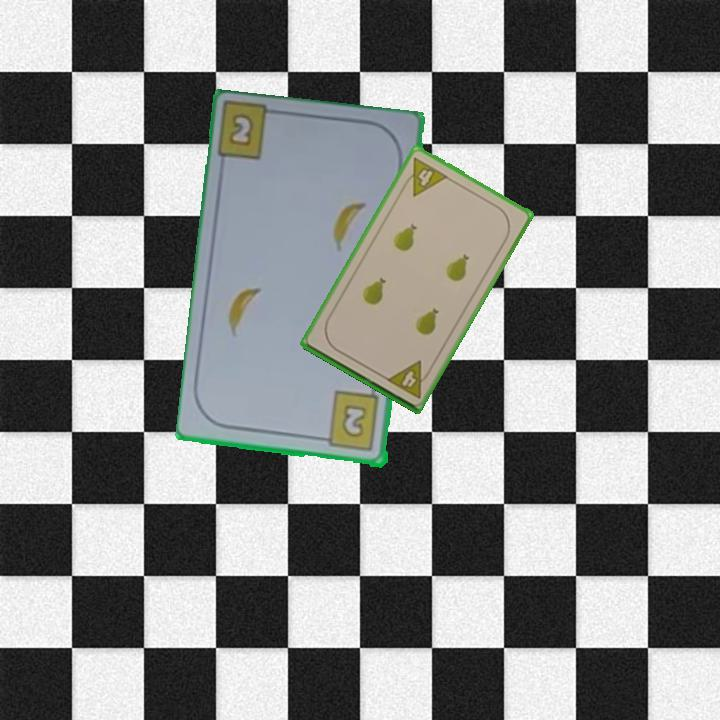2b: (316, 389, 383, 454), (225, 110, 257, 150)
4p: (398, 154, 451, 199), (382, 357, 435, 401)
